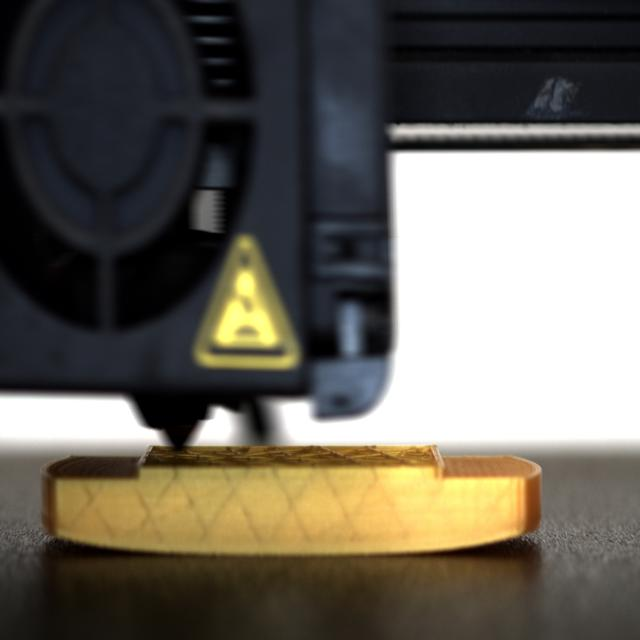Warping: (455, 520, 538, 558)
